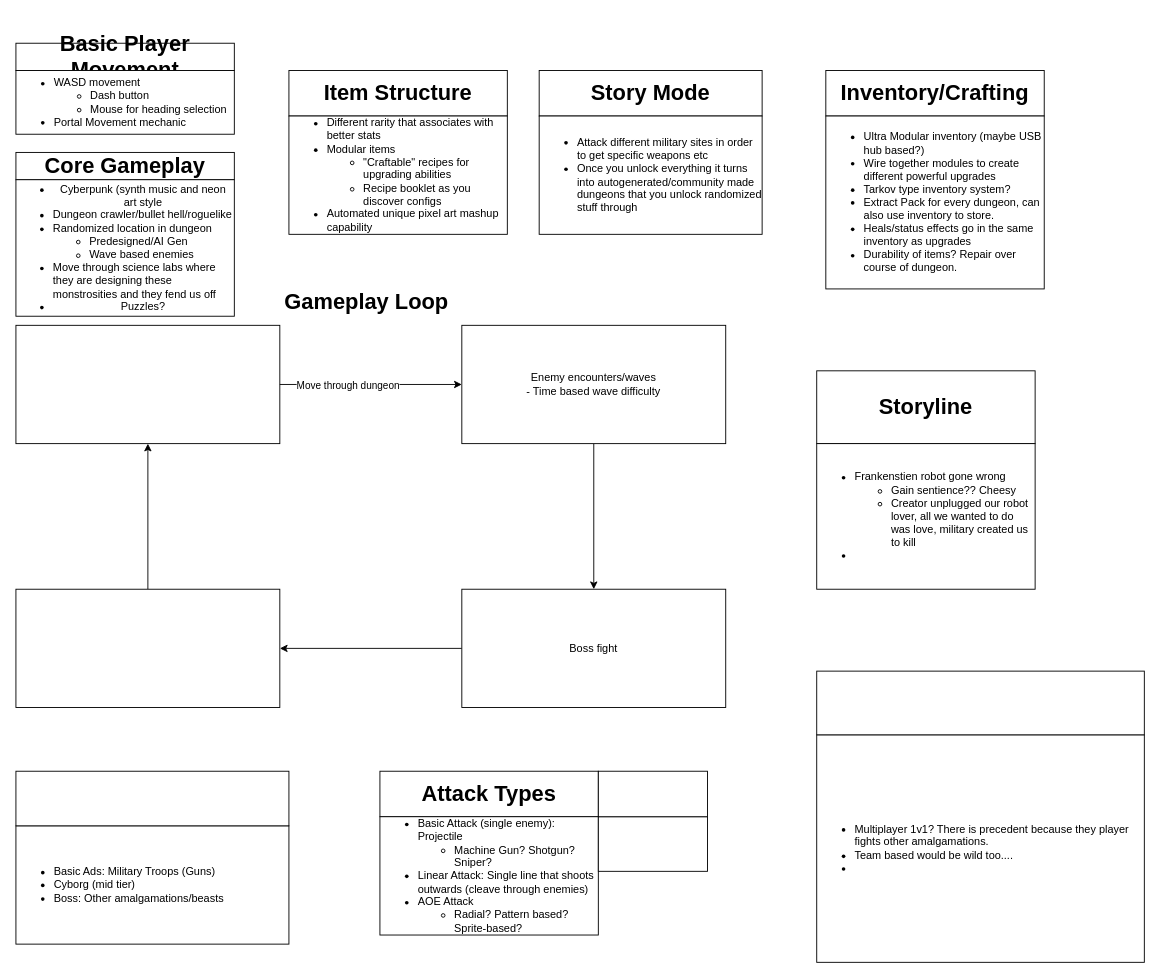
Image size: 1160x978. Some labels were removed from this diagram. Here are the shapes that lost their labels. From the top down, the box of each, then its label:
(15, 324, 280, 444): Spawn in random location in dungeon
(15, 588, 280, 708): Loot/Extract
(816, 670, 1144, 735): Fun ideas
(15, 770, 289, 826): Enemies
(597, 770, 708, 817): Attack Modifiers
(597, 816, 708, 871): Shape, Size, Cleave, Speed, Amount/Spread, Damage, Regen Time
